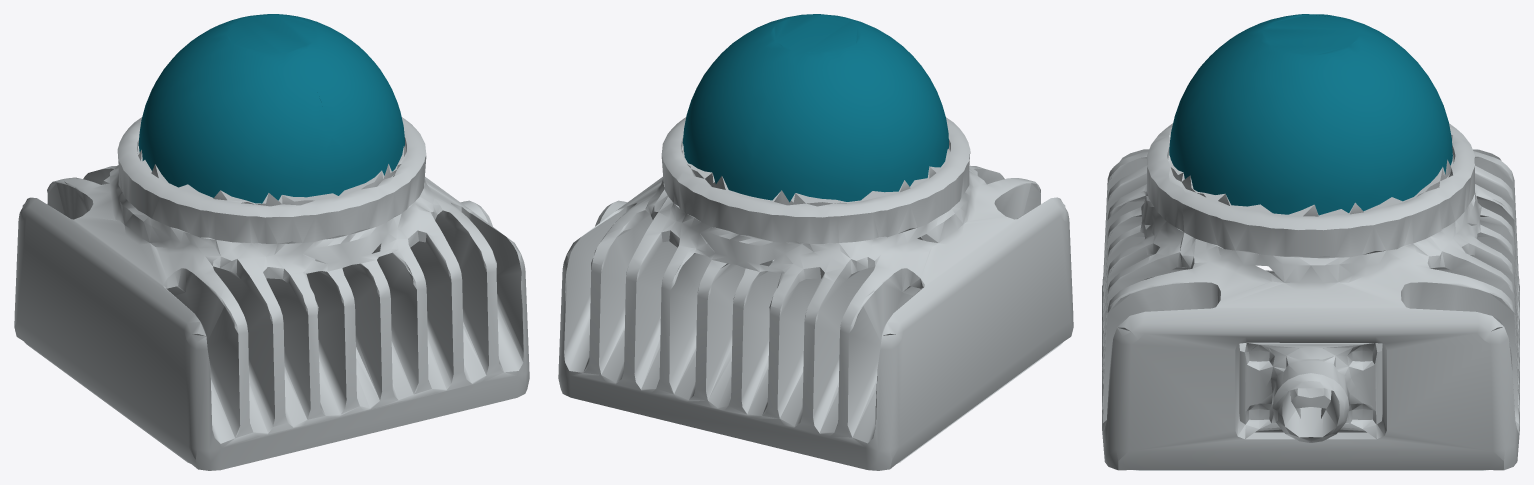
Rendered from mid360.glb.
The picture shows the model from 3 angles, left to right: view 1: azimuth 30°, elevation 25°; view 2: azimuth 150°, elevation 25°; view 3: azimuth 270°, elevation 25°; orthographic projection. The views are drawn at different scales.
Visible parts, largest first — view 1: mid360; view 2: mid360; view 3: mid360.
Boxes of the visible parts, box(x1,y1,x2,y2) form: mid360: box(14, 14, 529, 470); mid360: box(558, 14, 1073, 470); mid360: box(1102, 14, 1519, 470).
Bounding box in the file's own units: 0.0725 × 0.0601 × 0.0648.
